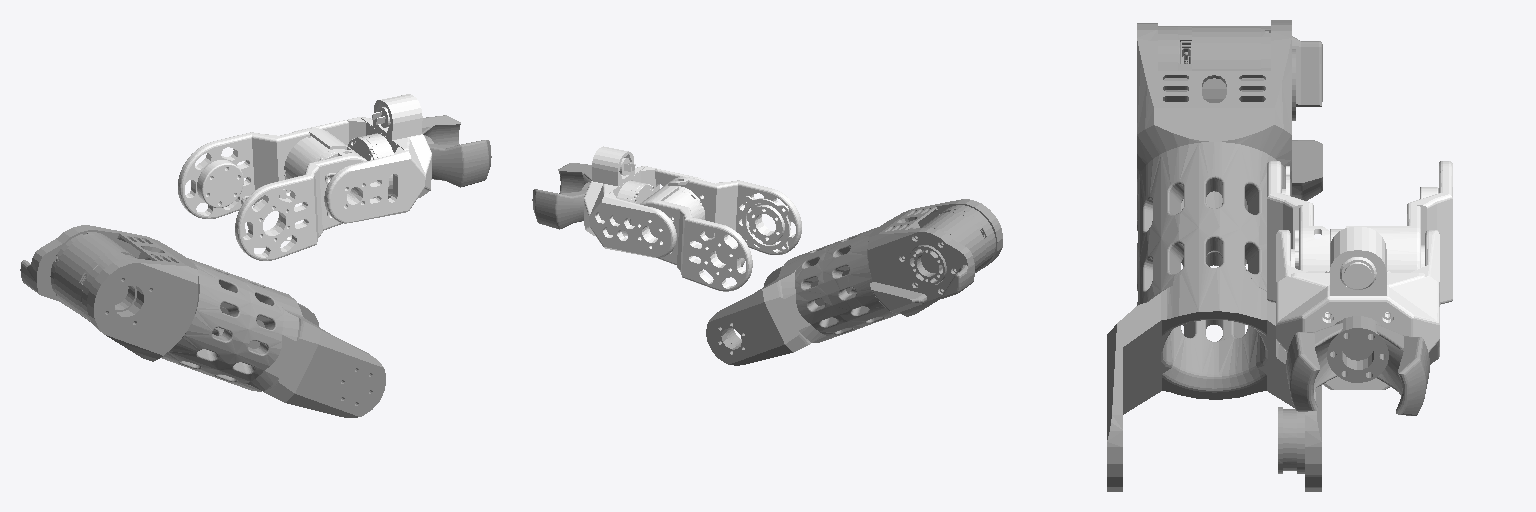
URDF robot description (whiz_v4_engineering_custom_controller_v2):
<?xml version="1.0" encoding="utf-8"?>
<!-- This URDF was automatically created by SolidWorks to URDF Exporter! Originally created by Stephen Brawner (brawner@gmail.com) 
     Commit Version: 1.6.0-4-g7f85cfe  Build Version: 1.6.7995.38578
     For more information, please see http://wiki.ros.org/sw_urdf_exporter -->
<robot
  name="whiz_v4_engineering_custom_controller_v2">

  <mujoco>
    <compiler
        meshdir="."
        strippath="false"
        balanceinertia="true"
        discardvisual="false"
        fusestatic="false"/>
  </mujoco>

  <link
    name="base_link">
    <inertial>
      <origin
        xyz="-0.0910115236275438 -0.114428252970875 0.0570930785983698"
        rpy="0 0 0" />
      <mass
        value="0.488199262047546" />
      <inertia
        ixx="0.000784448963883999"
        ixy="-8.89447825938737E-06"
        ixz="-1.02198363411997E-05"
        iyy="0.000548064394391928"
        iyz="-5.49763435079908E-07"
        izz="0.00123320794258275" />
    </inertial>
    <visual>
      <origin
        xyz="0 0 0"
        rpy="0 0 0" />
      <geometry>
        <mesh
          filename="./meshes/base_link.STL" />
      </geometry>
      <material
        name="">
        <color
          rgba="1 1 1 1" />
      </material>
    </visual>
    <collision>
      <origin
        xyz="0 0 0"
        rpy="0 0 0" />
      <geometry>
        <mesh
          filename="./meshes/base_link.STL" />
      </geometry>
    </collision>
  </link>
  <link
    name="j0_link">
    <inertial>
      <origin
        xyz="-5.80512650361423E-05 -0.00786891965985548 0.0371061874359527"
        rpy="0 0 0" />
      <mass
        value="0.177558429490151" />
      <inertia
        ixx="8.06527001145288E-05"
        ixy="-1.00728377006314E-08"
        ixz="1.14775279386693E-08"
        iyy="0.000102813283666097"
        iyz="-6.19022229671425E-07"
        izz="0.000104212682861218" />
    </inertial>
    <visual>
      <origin
        xyz="0 0 0"
        rpy="0 0 0" />
      <geometry>
        <mesh
          filename="./meshes/j0_link.STL" />
      </geometry>
      <material
        name="">
        <color
          rgba="0.698039215686274 0.698039215686274 0.698039215686274 1" />
      </material>
    </visual>
    <collision>
      <origin
        xyz="0 0 0"
        rpy="0 0 0" />
      <geometry>
        <mesh
          filename="./meshes/j0_link.STL" />
      </geometry>
    </collision>
  </link>
  <joint
    name="j0"
    type="revolute">
    <origin
      xyz="-0.045 -0.155 0.0959"
      rpy="0 0 0" />
    <parent
      link="base_link" />
    <child
      link="j0_link" />
    <axis
      xyz="0 0 1" />
    <limit
      lower="-0.3"
      upper="3.14159"
      effort="10"
      velocity="3" />
  </joint>
  <link
    name="j1_link">
    <inertial>
      <origin
        xyz="-0.144936804928833 -0.0833948525990552 -0.0477336487509511"
        rpy="0 0 0" />
      <mass
        value="0.22562086737292" />
      <inertia
        ixx="0.000217631417802414"
        ixy="-0.000118841792161416"
        ixz="9.63462418602433E-06"
        iyy="0.000366124391959589"
        iyz="2.91062972708233E-06"
        izz="0.000409469407769334" />
    </inertial>
    <visual>
      <origin
        xyz="0 0 0"
        rpy="0 0 0" />
      <geometry>
        <mesh
          filename="./meshes/j1_link.STL" />
      </geometry>
      <material
        name="">
        <color
          rgba="0.698039215686274 0.698039215686274 0.698039215686274 1" />
      </material>
    </visual>
    <collision>
      <origin
        xyz="0 0 0"
        rpy="0 0 0" />
      <geometry>
        <mesh
          filename="./meshes/j1_link.STL" />
      </geometry>
    </collision>
  </link>
  <joint
    name="j1"
    type="revolute">
    <origin
      xyz="0 0.05198 0.0455"
      rpy="-1.5708 0 0" />
    <parent
      link="j0_link" />
    <child
      link="j1_link" />
    <axis
      xyz="0 0 1" />
    <limit
      lower="-0.1"
      upper="1.7"
      effort="10"
      velocity="3" />
  </joint>
  <link
    name="j2_link">
    <inertial>
      <origin
        xyz="0.075208543365436 -0.0426440017049196 0.0338424999448053"
        rpy="0 0 0" />
      <mass
        value="0.199022191104027" />
      <inertia
        ixx="0.000103439131602536"
        ixy="1.00172687424201E-05"
        ixz="-4.53865218112888E-06"
        iyy="0.000111179062975411"
        iyz="6.98878622611344E-07"
        izz="0.000116912224014828" />
    </inertial>
    <visual>
      <origin
        xyz="0 0 0"
        rpy="0 0 0" />
      <geometry>
        <mesh
          filename="./meshes/j2_link.STL" />
      </geometry>
      <material
        name="">
        <color
          rgba="0.698039215686274 0.698039215686274 0.698039215686274 1" />
      </material>
    </visual>
    <collision>
      <origin
        xyz="0 0 0"
        rpy="0 0 0" />
      <geometry>
        <mesh
          filename="./meshes/j2_link.STL" />
      </geometry>
    </collision>
  </link>
  <joint
    name="j2"
    type="revolute">
    <origin
      xyz="-0.18187 -0.105 -0.0145"
      rpy="0 0 0" />
    <parent
      link="j1_link" />
    <child
      link="j2_link" />
    <axis
      xyz="0 0 -1" />
    <limit
      lower="-0.1"
      upper="3.14159"
      effort="10"
      velocity="3" />
  </joint>
  <link
    name="j3_link">
    <inertial>
      <origin
        xyz="0.000911279392072292 -0.000343654084326434 -0.053977641847383"
        rpy="0 0 0" />
      <mass
        value="0.163545514411216" />
      <inertia
        ixx="6.55240283152139E-05"
        ixy="-1.15945431171162E-08"
        ixz="1.70981211128894E-07"
        iyy="5.62257515496348E-05"
        iyz="7.25788323007107E-07"
        izz="6.83464980261634E-05" />
    </inertial>
    <visual>
      <origin
        xyz="0 0 0"
        rpy="0 0 0" />
      <geometry>
        <mesh
          filename="./meshes/j3_link.STL" />
      </geometry>
      <material
        name="">
        <color
          rgba="0.898039215686275 0.917647058823529 0.929411764705882 1" />
      </material>
    </visual>
    <collision>
      <origin
        xyz="0 0 0"
        rpy="0 0 0" />
      <geometry>
        <mesh
          filename="./meshes/j3_link.STL" />
      </geometry>
    </collision>
  </link>
  <joint
    name="j3"
    type="revolute">
    <origin
      xyz="0.0887 0 0.0345"
      rpy="0 -1.5708 0" />
    <parent
      link="j2_link" />
    <child
      link="j3_link" />
    <axis
      xyz="0 0 -1" />
    <limit
      lower="-1.4"
      upper="3.14159"
      effort="10"
      velocity="3" />
  </joint>
  <link
    name="j4_link">
    <inertial>
      <origin
        xyz="0.0548637216286566 -0.00320233062668715 -0.040476135342392"
        rpy="0 0 0" />
      <mass
        value="0.0800976574967828" />
      <inertia
        ixx="3.30173543048106E-05"
        ixy="6.80826495130829E-07"
        ixz="2.21688608053194E-07"
        iyy="4.49900006486955E-05"
        iyz="-1.82555233383396E-08"
        izz="3.72395018960574E-05" />
    </inertial>
    <visual>
      <origin
        xyz="0 0 0"
        rpy="0 0 0" />
      <geometry>
        <mesh
          filename="./meshes/j4_link.STL" />
      </geometry>
      <material
        name="">
        <color
          rgba="1 1 1 1" />
      </material>
    </visual>
    <collision>
      <origin
        xyz="0 0 0"
        rpy="0 0 0" />
      <geometry>
        <mesh
          filename="./meshes/j4_link.STL" />
      </geometry>
    </collision>
  </link>
  <joint
    name="j4"
    type="revolute">
    <origin
      xyz="0.04352 0 -0.06928"
      rpy="0 1.5708 0" />
    <parent
      link="j3_link" />
    <child
      link="j4_link" />
    <axis
      xyz="0 0 -1" />
    <limit
      lower="-0.5"
      upper="1.7"
      effort="10"
      velocity="3" />
  </joint>
  <link
    name="j5_link">
    <inertial>
      <origin
        xyz="0.0420197790967324 -0.00141923045152406 -0.0421061885503495"
        rpy="0 0 0" />
      <mass
        value="0.0868689357362734" />
      <inertia
        ixx="3.39784206174027E-05"
        ixy="8.56792582848051E-07"
        ixz="-8.75024491696133E-08"
        iyy="3.5889681491751E-05"
        iyz="7.96332319361388E-09"
        izz="2.80023005638003E-05" />
    </inertial>
    <visual>
      <origin
        xyz="0 0 0"
        rpy="0 0 0" />
      <geometry>
        <mesh
          filename="./meshes/j5_link.STL" />
      </geometry>
      <material
        name="">
        <color
          rgba="1 1 1 1" />
      </material>
    </visual>
    <collision>
      <origin
        xyz="0 0 0"
        rpy="0 0 0" />
      <geometry>
        <mesh
          filename="./meshes/j5_link.STL" />
      </geometry>
    </collision>
  </link>
  <joint
    name="j5"
    type="revolute">
    <origin
      xyz="0.069886 -0.004 -0.0065"
      rpy="0 0 0" />
    <parent
      link="j4_link" />
    <child
      link="j5_link" />
    <axis
      xyz="0 0 -1" />
    <limit
      lower="-1.05"
      upper="1.9"
      effort="10"
      velocity="3" />
  </joint>
  <link
    name="j6_link">
    <inertial>
      <origin
        xyz="3.17440518315948E-13 -3.47326334360076E-14 0.008522178207892"
        rpy="0 0 0" />
      <mass
        value="0.00666677140172814" />
      <inertia
        ixx="4.83242562620343E-06"
        ixy="-1.30162131750073E-07"
        ixz="-2.7365375545548E-16"
        iyy="2.01812224260804E-06"
        iyz="8.8518108667357E-16"
        izz="3.69676336455999E-06" />
    </inertial>
    <visual>
      <origin
        xyz="0 0 0"
        rpy="0 0 0" />
      <geometry>
        <mesh
          filename="./meshes/j6_link.STL" />
      </geometry>
      <material
        name="">
        <color
          rgba="0.698039215686274 0.698039215686274 0.698039215686274 1" />
      </material>
    </visual>
    <collision>
      <origin
        xyz="0 0 0"
        rpy="0 0 0" />
      <geometry>
        <mesh
          filename="./meshes/j6_link.STL" />
      </geometry>
    </collision>
  </link>
  <joint
    name="j6"
    type="revolute">
    <origin
      xyz="0.083939 0.0032072 -0.0395"
      rpy="-1.5708 0 -1.5326" />
    <parent
      link="j5_link" />
    <child
      link="j6_link" />
    <axis
      xyz="0 0 1" />
    <limit
      lower="-3.14159"
      upper="3.14159"
      effort="10"
      velocity="3" />
  </joint>
</robot>

--- Render facts (derived) ---
3 views of the same robot in one strip: view 1: azimuth 30°, elevation 25°; view 2: azimuth 150°, elevation 25°; view 3: azimuth 270°, elevation 25° (orthographic).
Robot: whiz_v4_engineering_custom_controller_v2 — 8 links, 7 joints (7 revolute); root link base_link; default pose: all joints at 0.
Visible links, largest first — view 1: j1_link, j4_link, j5_link, j6_link; view 2: j1_link, j4_link, j5_link, j6_link; view 3: j1_link, j5_link, j6_link, j4_link.
Boxes of the visible links, box(x1,y1,x2,y2) form: j1_link: box(20, 225, 385, 417); j4_link: box(178, 128, 376, 260); j5_link: box(292, 94, 431, 223); j6_link: box(422, 115, 491, 187); j1_link: box(706, 199, 1002, 365); j4_link: box(630, 177, 801, 291); j5_link: box(584, 146, 705, 257); j6_link: box(532, 163, 591, 229); j1_link: box(1107, 20, 1322, 491); j5_link: box(1276, 227, 1439, 389); j6_link: box(1286, 316, 1429, 415); j4_link: box(1267, 161, 1452, 304).
Bounding box of the posed robot: 0.3914 × 0.1675 × 0.1821 m (x, y, z).
4 mesh visuals loaded from 8 distinct referenced files (4 binary STL); not drawn: 4 (reference not matched to a file when rendering).
